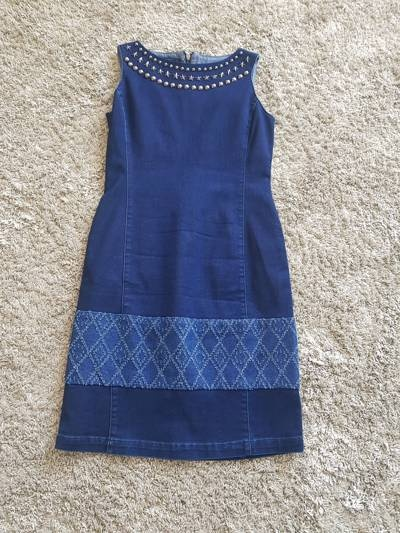Dress: (43, 26, 324, 462)
